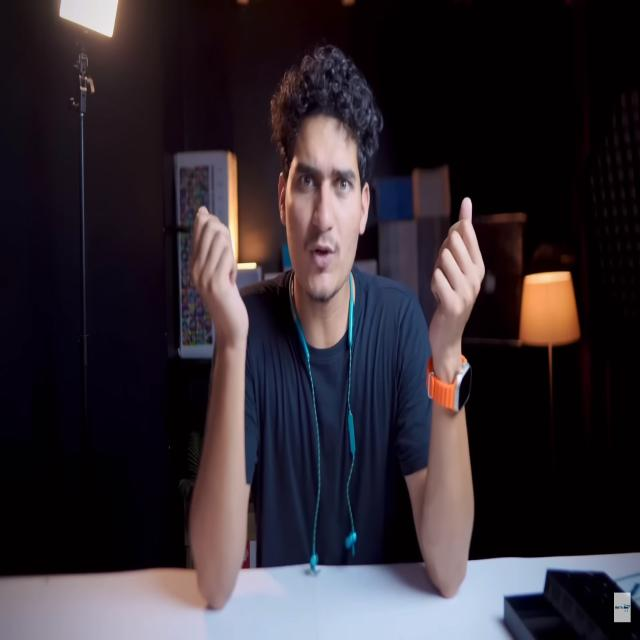Neckband: (288, 268, 358, 570)
